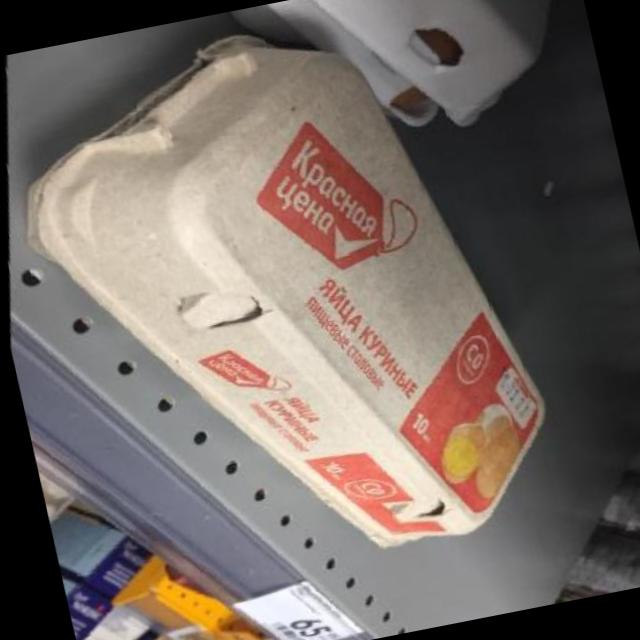Egg: (0, 0, 640, 640), (37, 461, 187, 619), (45, 507, 151, 640)
